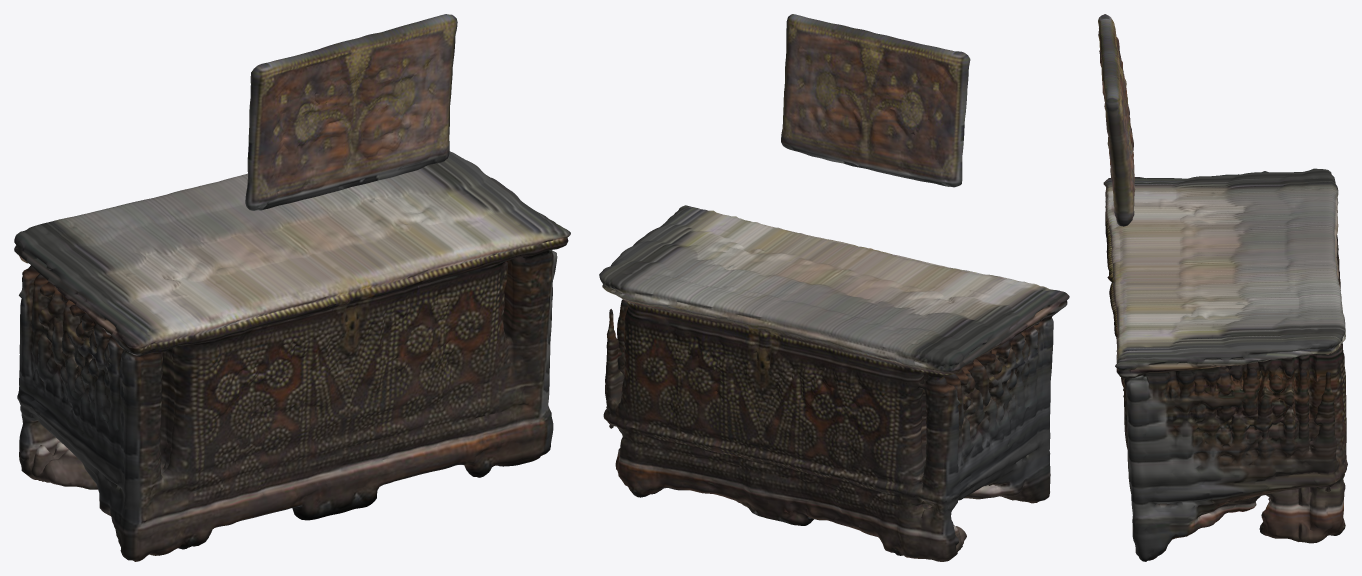
File: kfl-2301.glb
3 views of the same model, side by side, from view 1: azimuth 30°, elevation 25°; view 2: azimuth 150°, elevation 25°; view 3: azimuth 270°, elevation 25° (orthographic). The views are drawn at different scales.
Visible parts, largest first — view 1: kfl-2301.glb; view 2: kfl-2301.glb; view 3: kfl-2301.glb.
Part boxes in pixels (bbox=[...]): kfl-2301.glb: bbox=[14, 14, 570, 561]; kfl-2301.glb: bbox=[599, 14, 1069, 561]; kfl-2301.glb: bbox=[1098, 14, 1347, 561].
Bounding box in the file's own units: 0.9612 × 1 × 0.534.
Materials: 1 (1 with a texture image).
